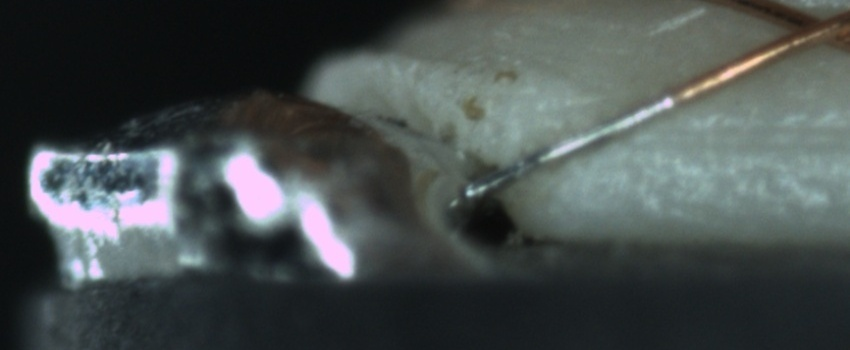CL: (761, 2, 848, 56)
DL: (626, 100, 844, 173)
TS: (459, 92, 669, 207)
